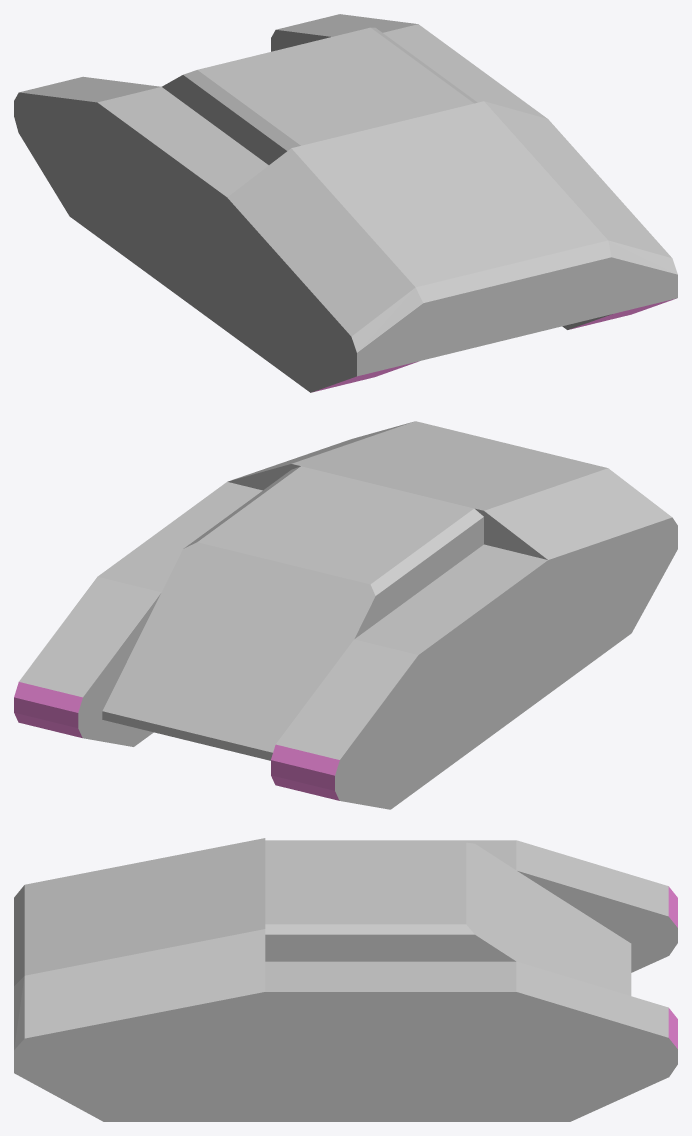
The picture shows the model from 3 angles, top to bottom: view 1: azimuth 30°, elevation 25°; view 2: azimuth 150°, elevation 25°; view 3: azimuth 270°, elevation 25°; orthographic projection. The views are drawn at different scales.
Visible parts, largest first — view 1: hull; view 2: hull; view 3: hull.
Part boxes in pixels (box(x1,y1,x2,y2)): hull: box(14, 14, 677, 392); hull: box(14, 421, 677, 809); hull: box(14, 838, 677, 1121).
Size of the model in its own units: 330 by 165 by 610.
